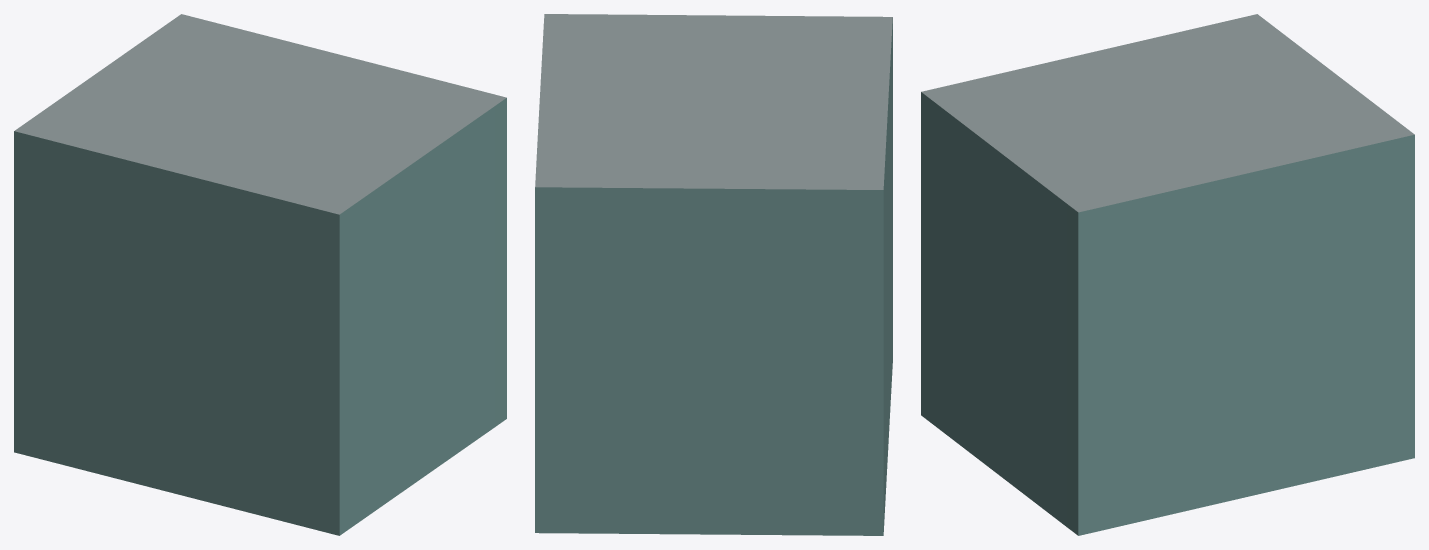
Rendered from nyc-1080831-0.glb.
3 renders of one model, left to right at view 1: azimuth 30°, elevation 25°; view 2: azimuth 150°, elevation 25°; view 3: azimuth 270°, elevation 25°, orthographic. The views are drawn at different scales.
Visible parts, largest first — view 1: nyc-1080831-0; view 2: nyc-1080831-0; view 3: nyc-1080831-0.
Boxes of the visible parts, box(x1,y1,x2,y2) form: nyc-1080831-0: box(14, 14, 506, 535); nyc-1080831-0: box(535, 14, 892, 535); nyc-1080831-0: box(921, 14, 1414, 535).
Size of the model in its own units: 36.92 by 28.06 by 38.82.
